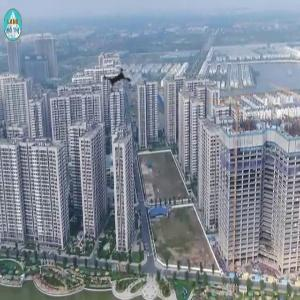drone: (91, 56, 146, 111)
